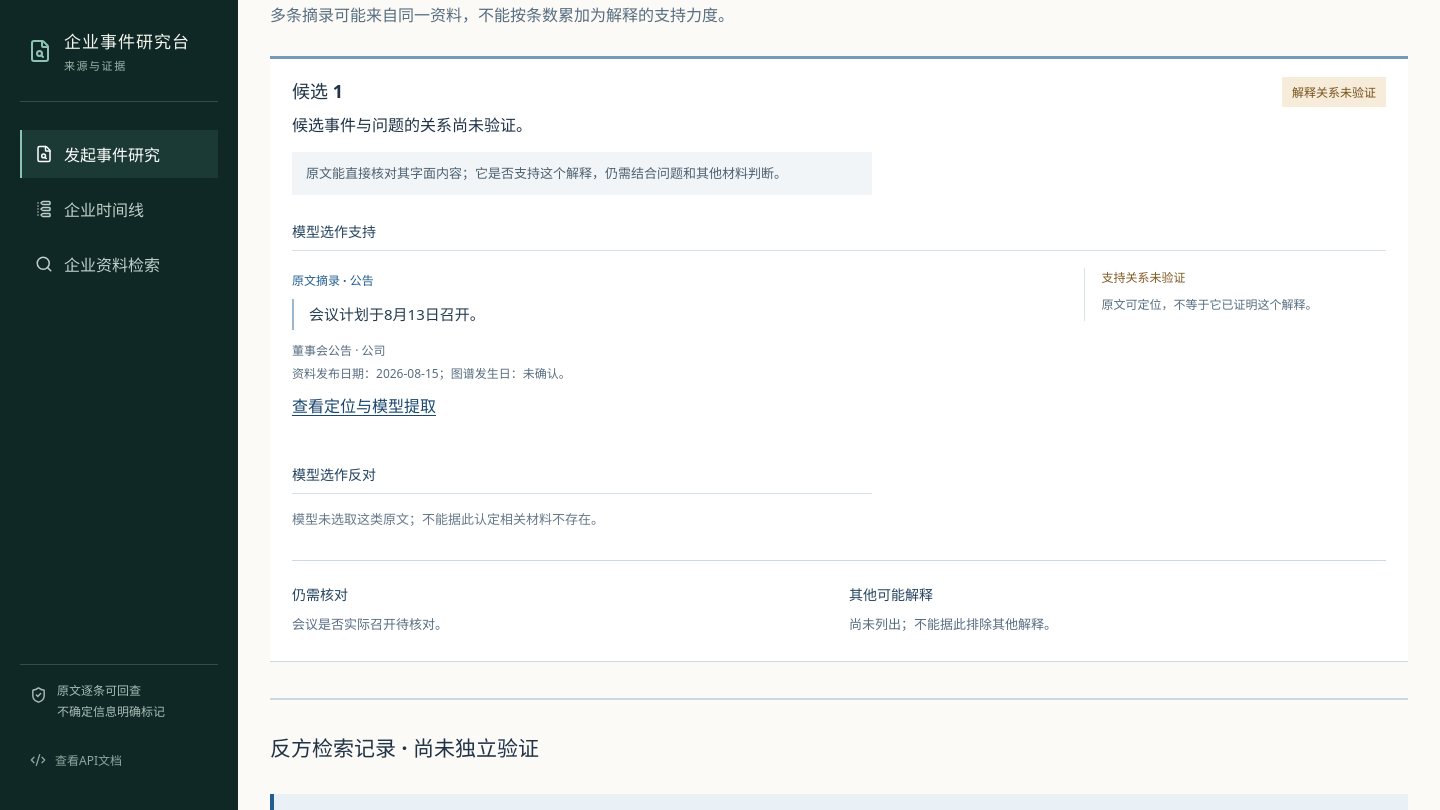
Scenario: research evidence cards separate original quotes from unreviewed support
(page scrolled)
Expected: the element named "候选 1 模型选作支持" shows "会议计划于8月13日召开。", [309,304,485,324]
Expected: the element named "候选 1 模型选作支持" shows "资料发布日期：2026-08-15；图谱发生日：未确认", [292,213,1386,440]
Click the button "查看定位与模型提取": (364, 405) [292,387,436,423]
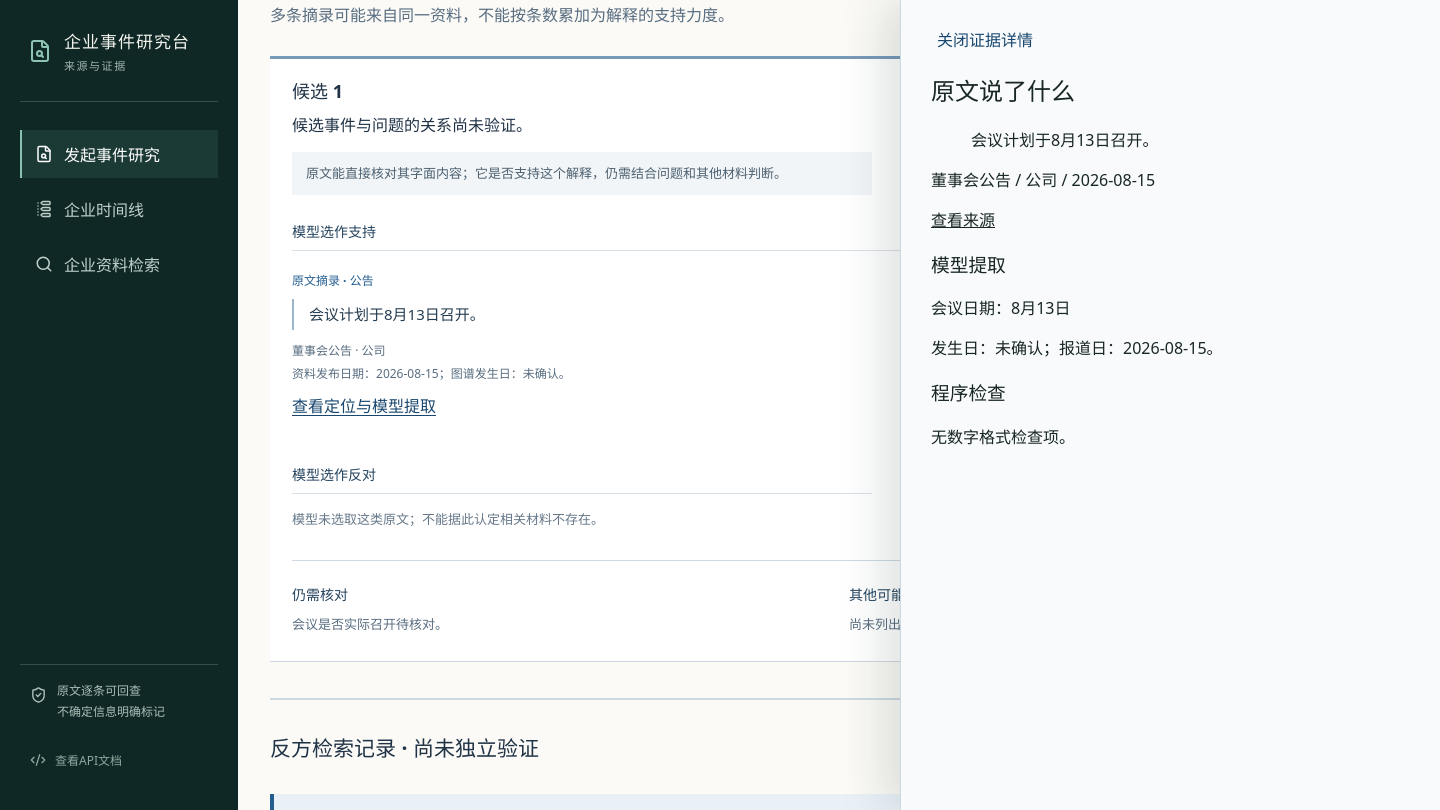
Result: the element named "研究证据详情" shows "模型提取" at [931,252,1006,276]
